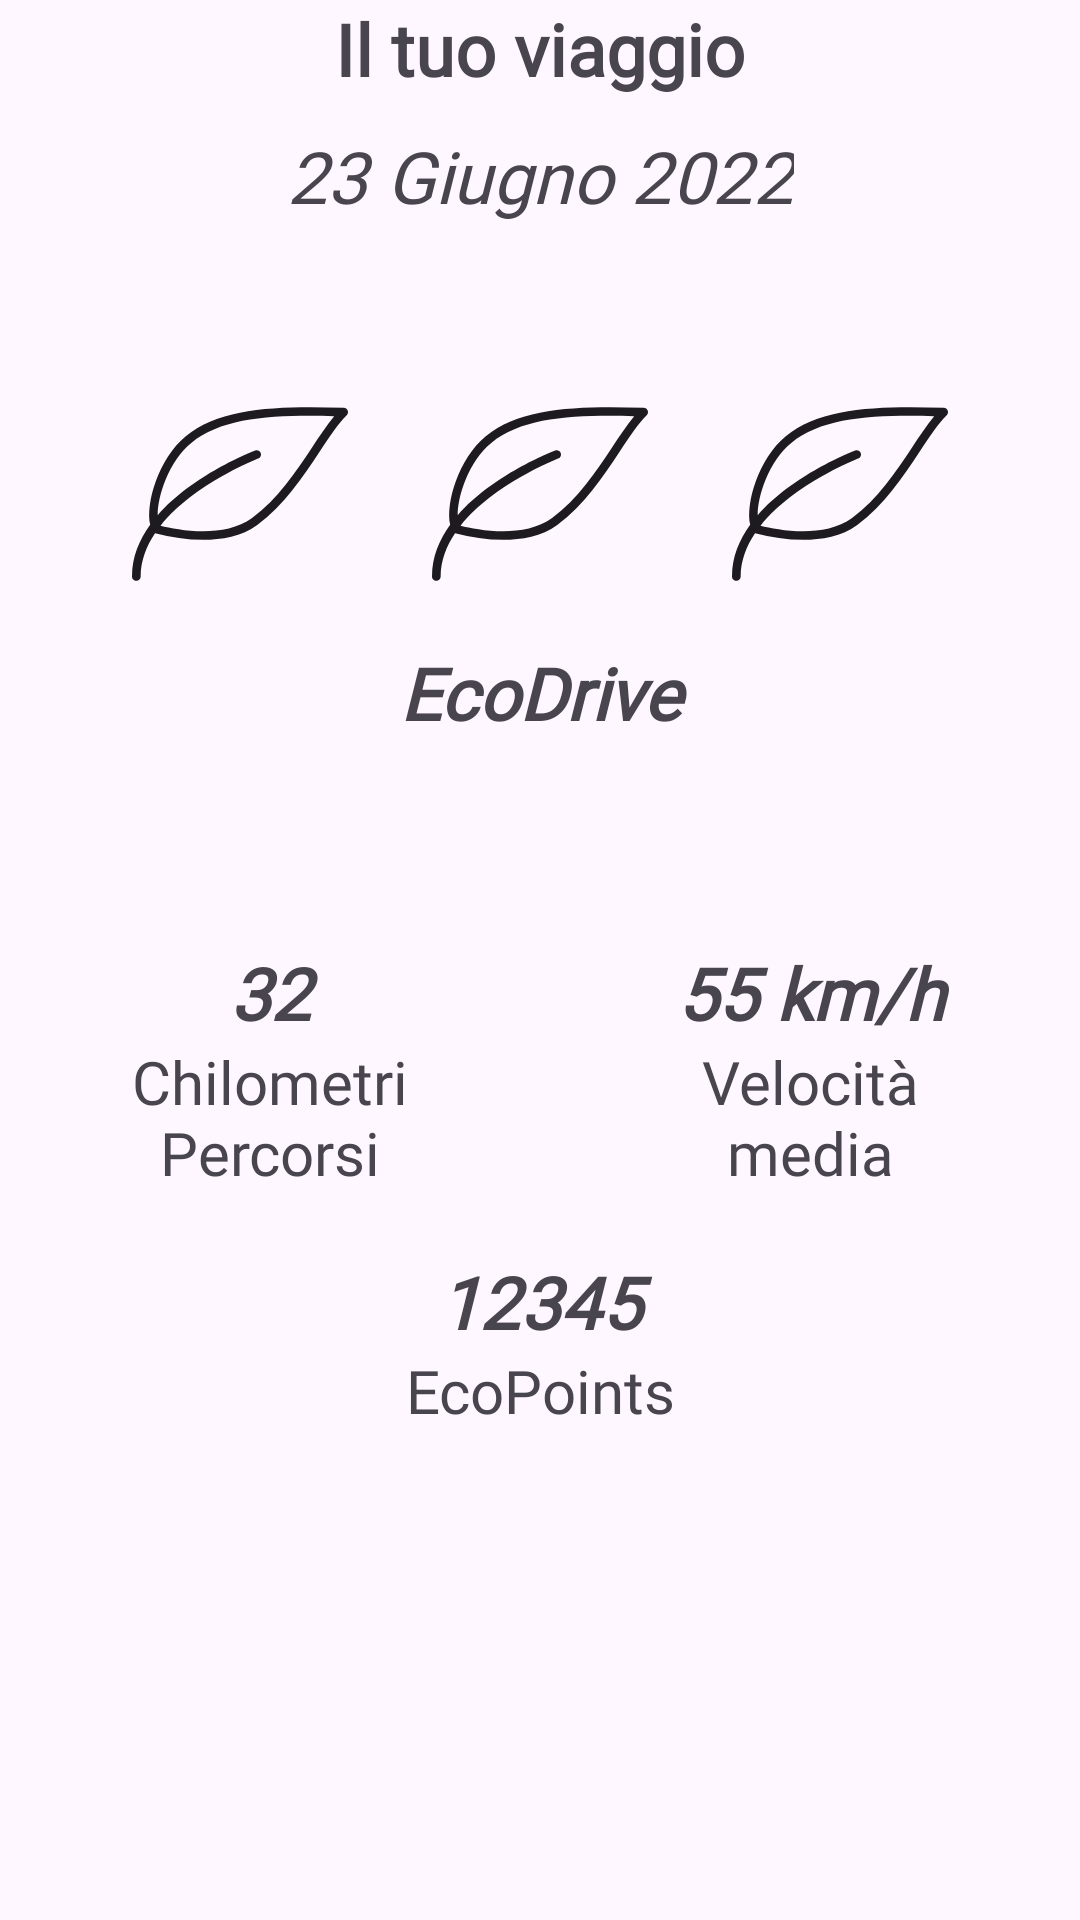

Where to tap for icons on this 1080px×1920px app screen, as point (x, y):
noun leaf: point (240, 494), point (540, 494), point (840, 494)
